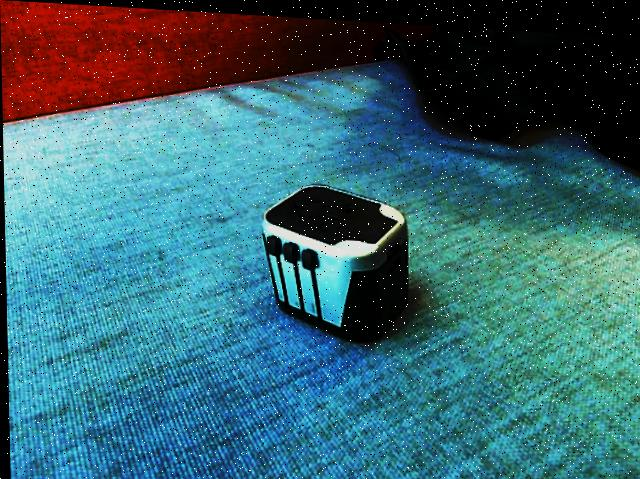adapter: (258, 177, 409, 341)
